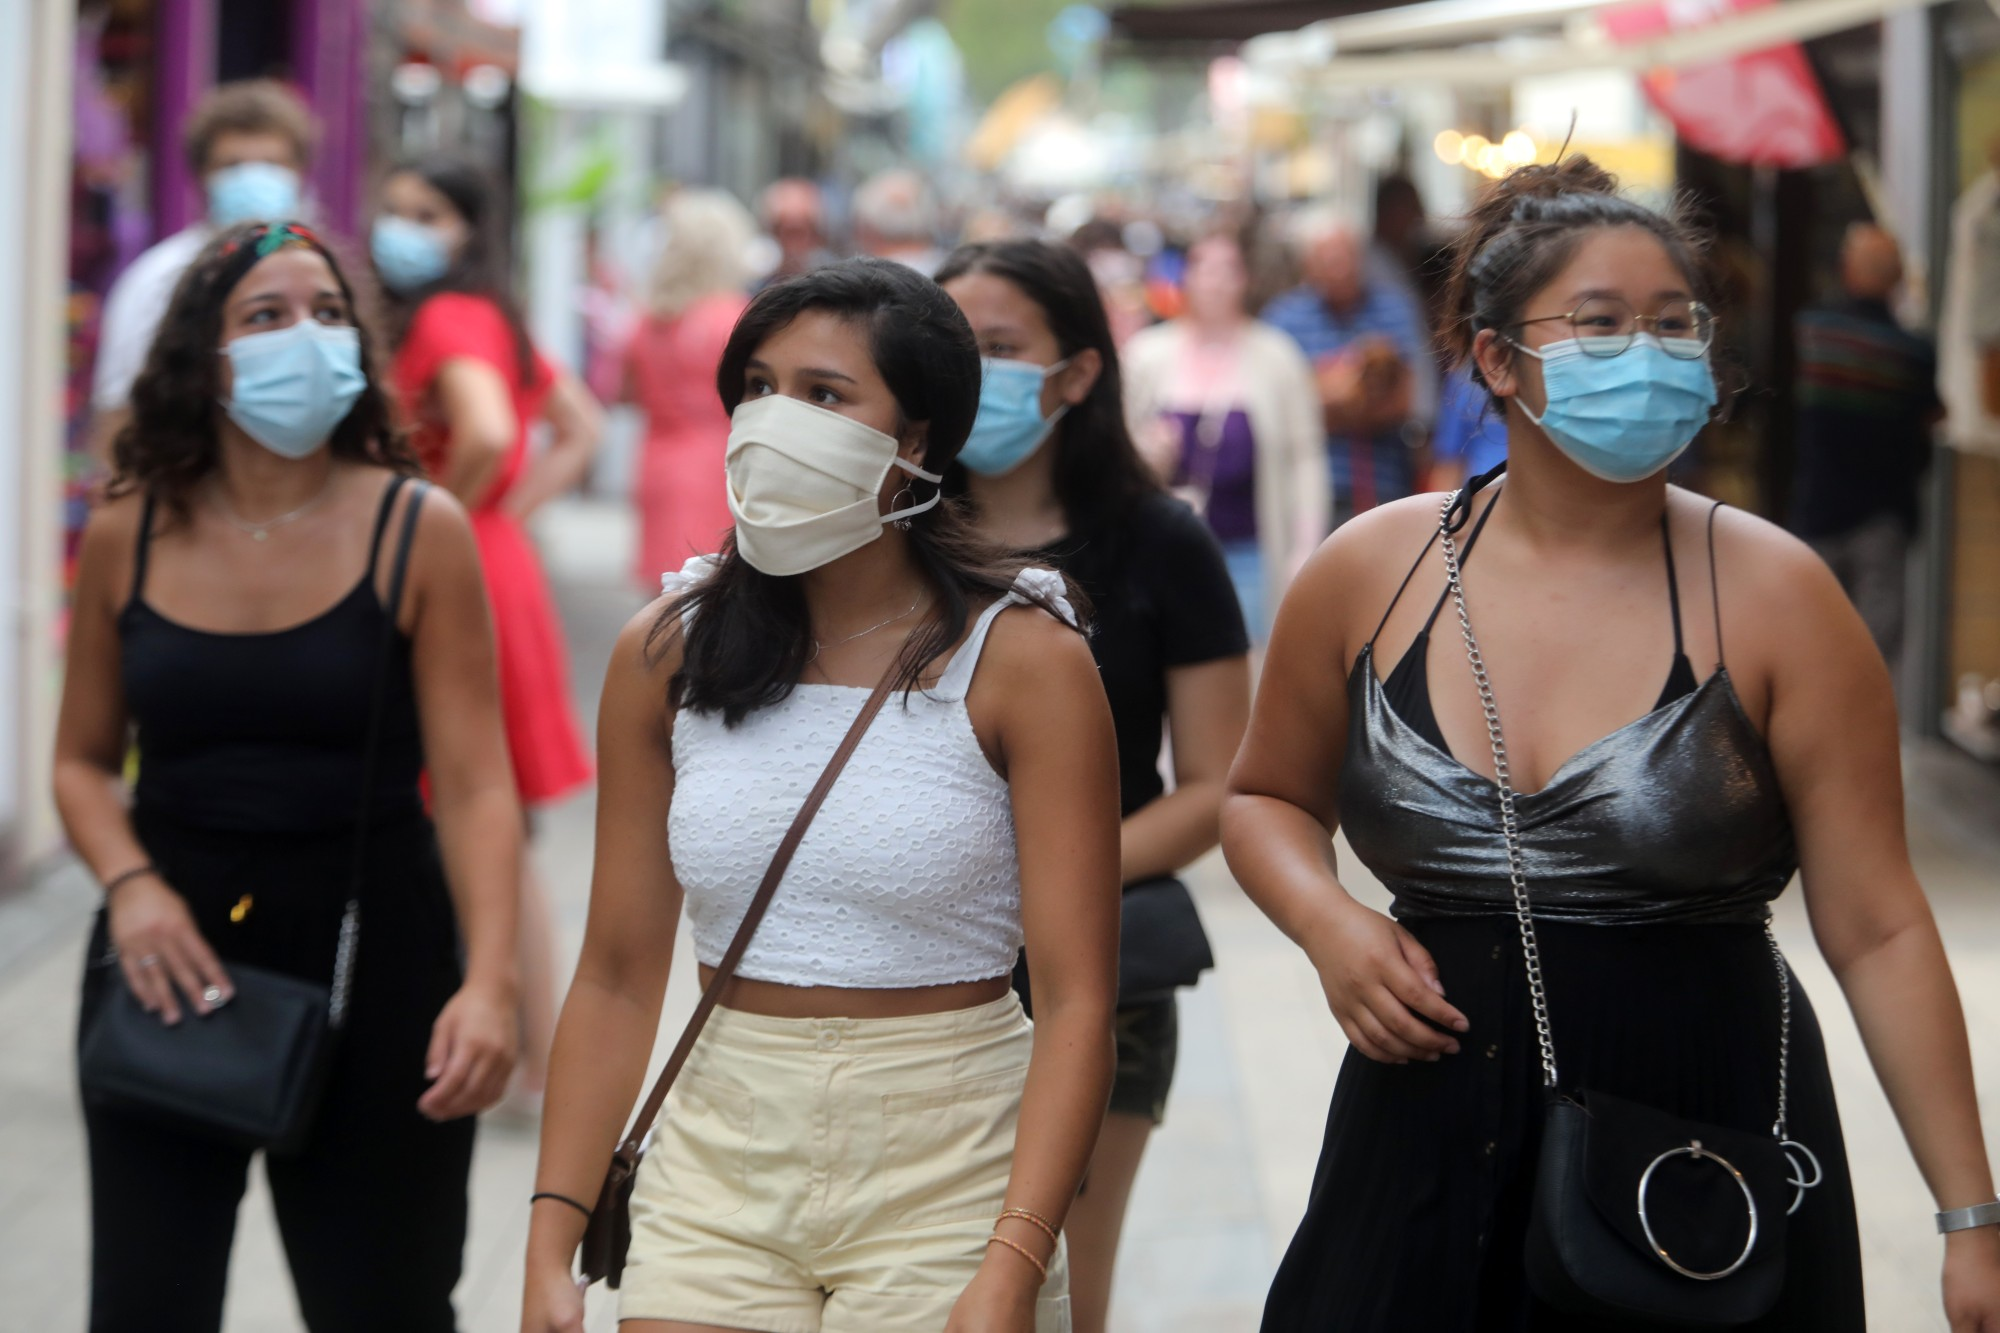with_mask: (1545, 263, 1712, 484), (734, 340, 883, 540), (234, 290, 357, 437)
